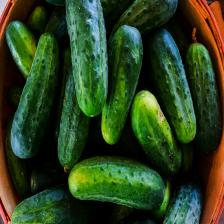cucumber: (143, 26, 197, 144), (11, 32, 61, 158), (68, 154, 164, 212), (100, 24, 144, 146), (64, 0, 108, 117), (184, 42, 223, 154), (10, 181, 97, 224)
